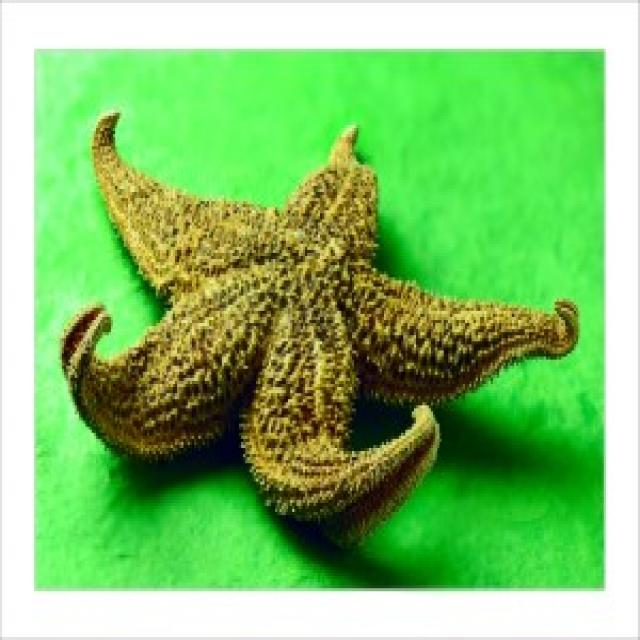Starfish: (57, 82, 591, 556)
